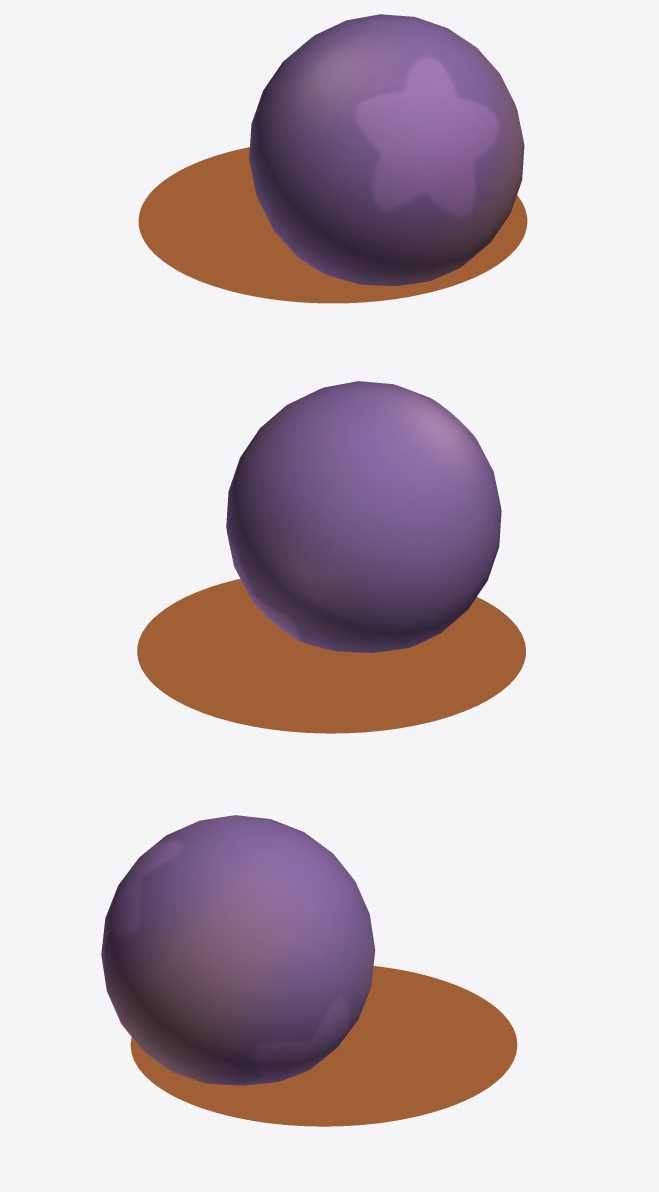
File: 宝宝巴士-主框架-推送地图-游园会-球6.FBX
3 views of the same model, one above another, from view 1: azimuth 30°, elevation 25°; view 2: azimuth 150°, elevation 25°; view 3: azimuth 270°, elevation 25° (orthographic).
Visible parts, largest first — view 1: 宝宝巴士-主框架-推送地图-游园会-球6; view 2: 宝宝巴士-主框架-推送地图-游园会-球6; view 3: 宝宝巴士-主框架-推送地图-游园会-球6.
Part boxes in pixels (left/top/right/bottom): 宝宝巴士-主框架-推送地图-游园会-球6: left=138, top=14, right=527, bottom=303; 宝宝巴士-主框架-推送地图-游园会-球6: left=137, top=381, right=525, bottom=733; 宝宝巴士-主框架-推送地图-游园会-球6: left=101, top=815, right=517, bottom=1126.
Size of the model in its own units: 135 by 58.28 by 135.
